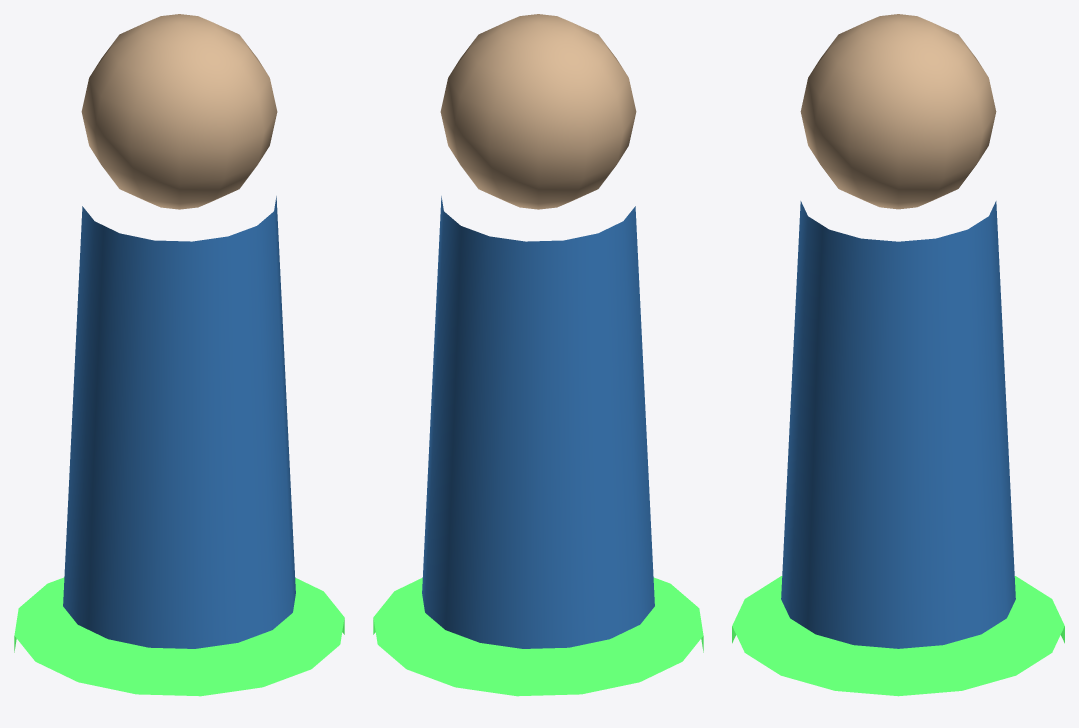
File: player_spawn.glb
3 views of the same model, side by side, from view 1: azimuth 30°, elevation 25°; view 2: azimuth 150°, elevation 25°; view 3: azimuth 270°, elevation 25° (orthographic).
Parts seen in each view (by area): view 1: player_spawn; view 2: player_spawn; view 3: player_spawn.
Part boxes in pixels (<box>): player_spawn: <box>14,14,344,696</box>; player_spawn: <box>373,14,703,696</box>; player_spawn: <box>732,14,1064,696</box>.
Bounding box in the file's own units: 0.6802 × 1.4 × 0.6802.
